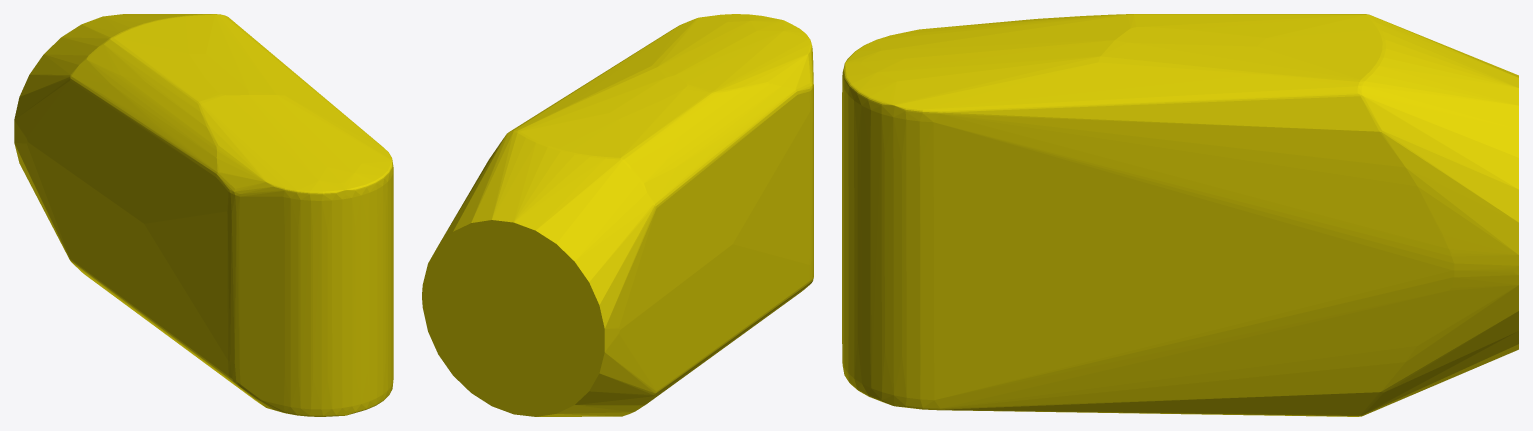
File: forearm_link.dae
3 views of the same model, side by side, from view 1: azimuth 30°, elevation 25°; view 2: azimuth 150°, elevation 25°; view 3: azimuth 270°, elevation 25° (orthographic). The views are drawn at different scales.
Visible parts, largest first — view 1: node; view 2: node; view 3: node.
Boxes of the visible parts, left/top/right/bottom form: node: left=14, top=14, right=393, bottom=416; node: left=422, top=14, right=813, bottom=416; node: left=842, top=14, right=1518, bottom=416.
Bounding box in the file's own units: 0.264 × 0.359 × 0.6512.
